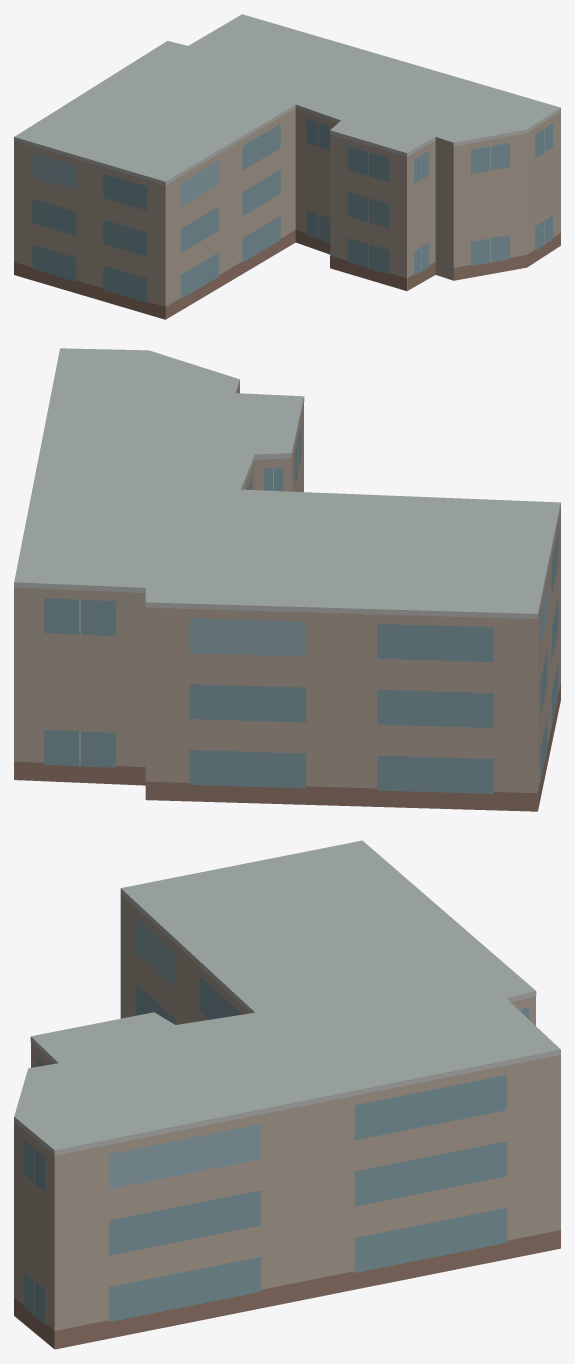
Rendered from survey-upis-32510172.glb.
The picture shows the model from 3 angles, top to bottom: view 1: azimuth 30°, elevation 25°; view 2: azimuth 150°, elevation 25°; view 3: azimuth 270°, elevation 25°; orthographic projection. The views are drawn at different scales.
Parts seen in each view (by area): view 1: survey-upis-32510172.tmp; view 2: survey-upis-32510172.tmp; view 3: survey-upis-32510172.tmp.
Boxes of the visible parts, left/top/right/bottom form: survey-upis-32510172.tmp: left=14, top=14, right=560, bottom=319; survey-upis-32510172.tmp: left=14, top=348, right=560, bottom=811; survey-upis-32510172.tmp: left=14, top=840, right=560, bottom=1349.
Bounding box in the file's own units: 30.55 × 9.15 × 22.78.
